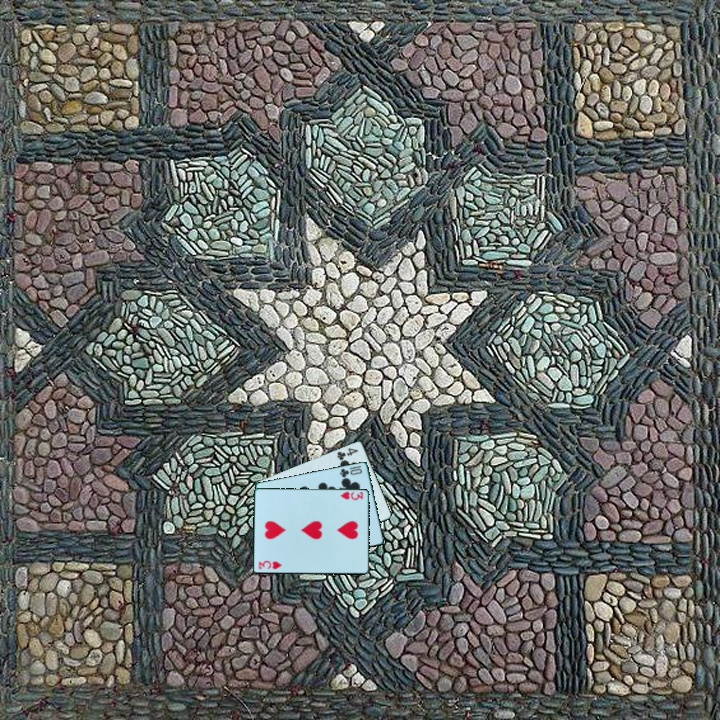10c: (336, 465, 365, 480)
3h: (337, 488, 366, 503), (256, 557, 285, 572)
4c: (333, 444, 361, 463)
